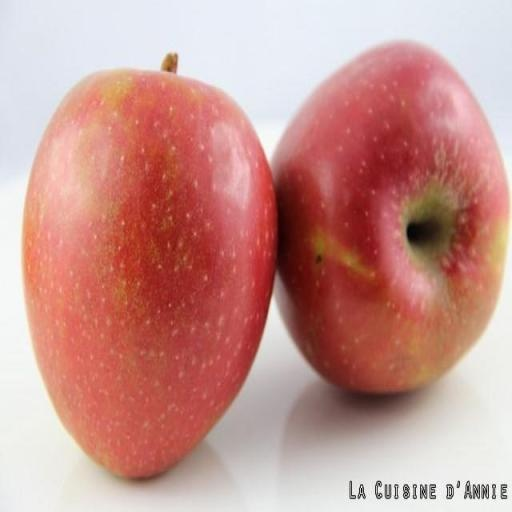fruit: (23, 56, 276, 476), (273, 43, 508, 392)
